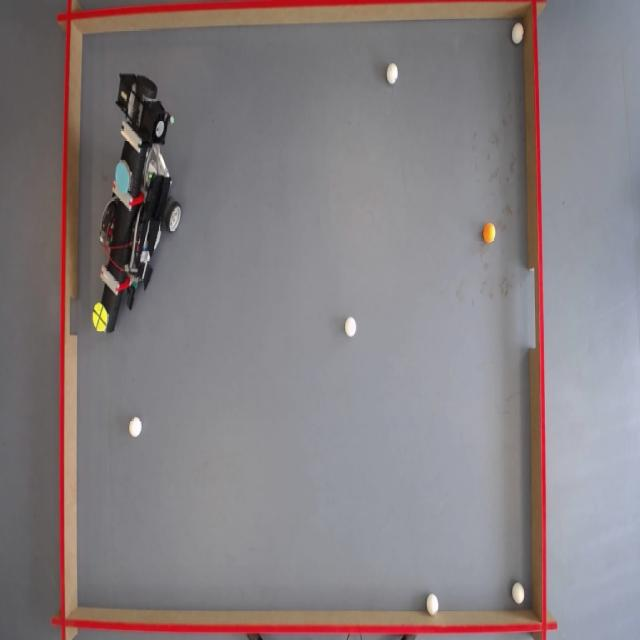orange: (484, 225, 498, 245)
robot: (94, 73, 185, 333)
robot-front: (93, 303, 109, 334)
robot-rear: (112, 163, 131, 196)
white: (513, 584, 527, 606), (512, 24, 526, 46), (130, 417, 144, 439), (426, 593, 440, 615), (345, 316, 358, 338), (386, 64, 399, 85)
